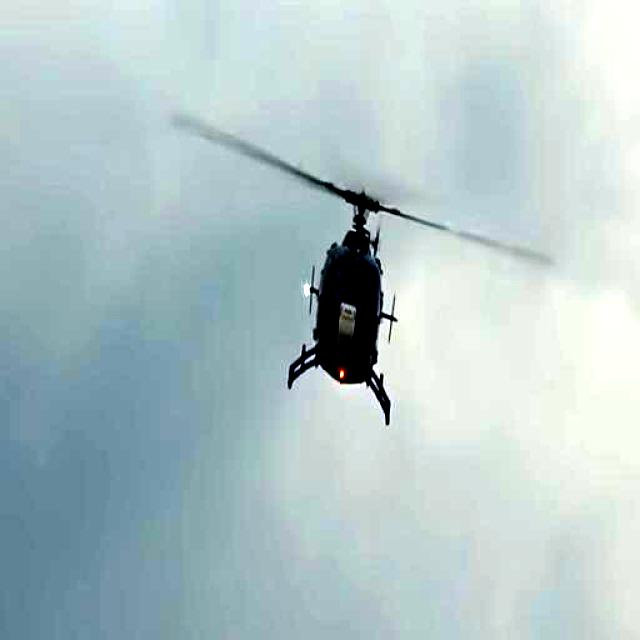drone: (274, 131, 435, 435)
